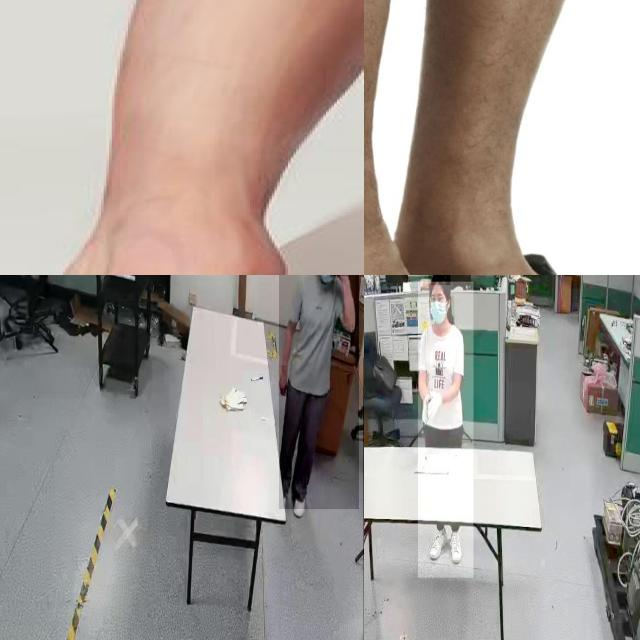face_mask: (429, 282, 453, 322), (317, 275, 336, 289)
hand_glove: (422, 381, 446, 430)
hand_noglove: (278, 365, 288, 398)
head_nohelmet: (428, 275, 451, 286)
person: (278, 275, 359, 509), (418, 282, 474, 578)
shoes: (291, 477, 309, 523), (428, 526, 450, 562), (448, 527, 464, 563)
